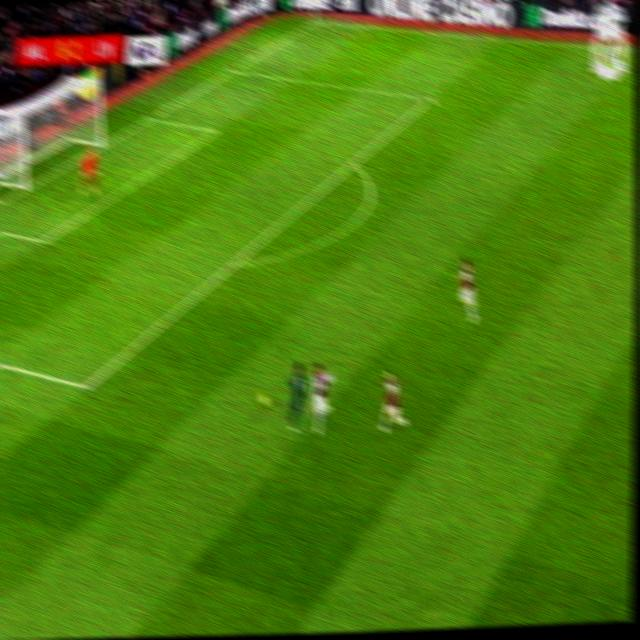bigarea_bottom_inner: (79, 379, 94, 395)
bigarea_top_inner: (423, 91, 437, 107)
bigarea_top_outter: (225, 65, 238, 76)
bottom_arc_area_intersection: (227, 256, 240, 271)
corner: (308, 16, 323, 27)
smallarea_bottom_inner: (35, 233, 49, 250)
smallarea_top_outter: (207, 123, 224, 139), (143, 111, 156, 124)
top_arc_area_intersection: (347, 156, 361, 172)
